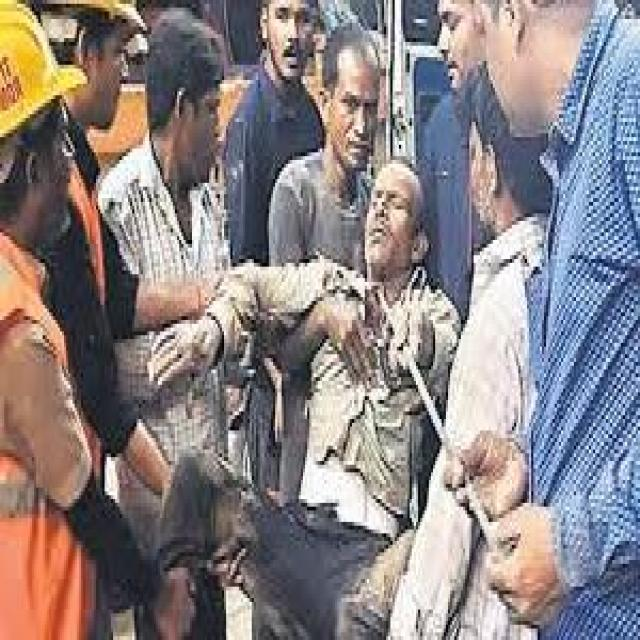Reflective-Jacket: (0, 210, 111, 636)
Safety-Helmet: (0, 8, 90, 164)
